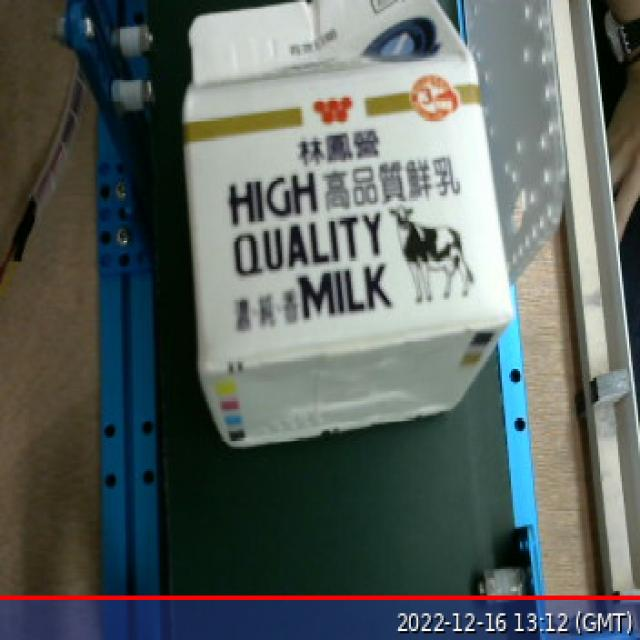non_white_jug: (170, 0, 535, 468)
